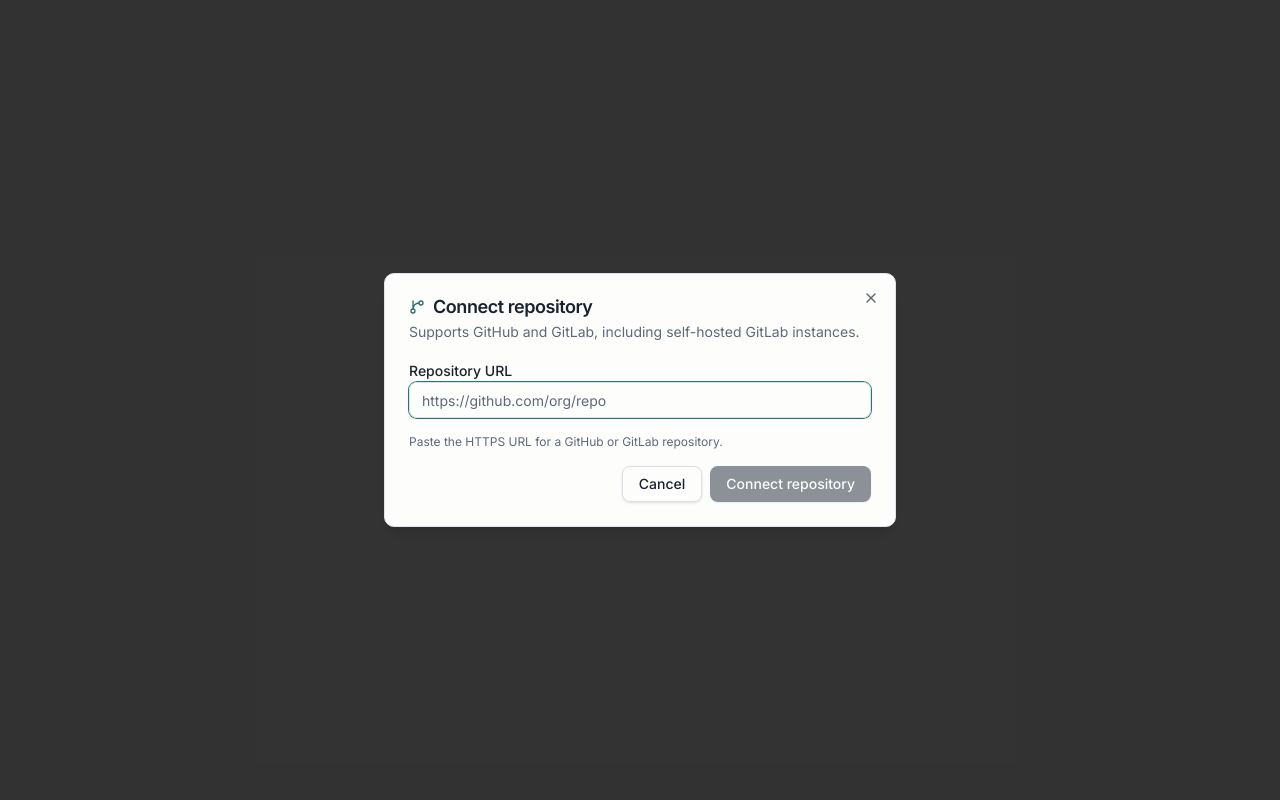
ConnectRepositoryDialog › renders a truncation notice and attach failure alert
Type "https://github.com/acme/atlas-commerce" into the field labelled "Repository URL" at (640, 400), box [409, 382, 871, 418]
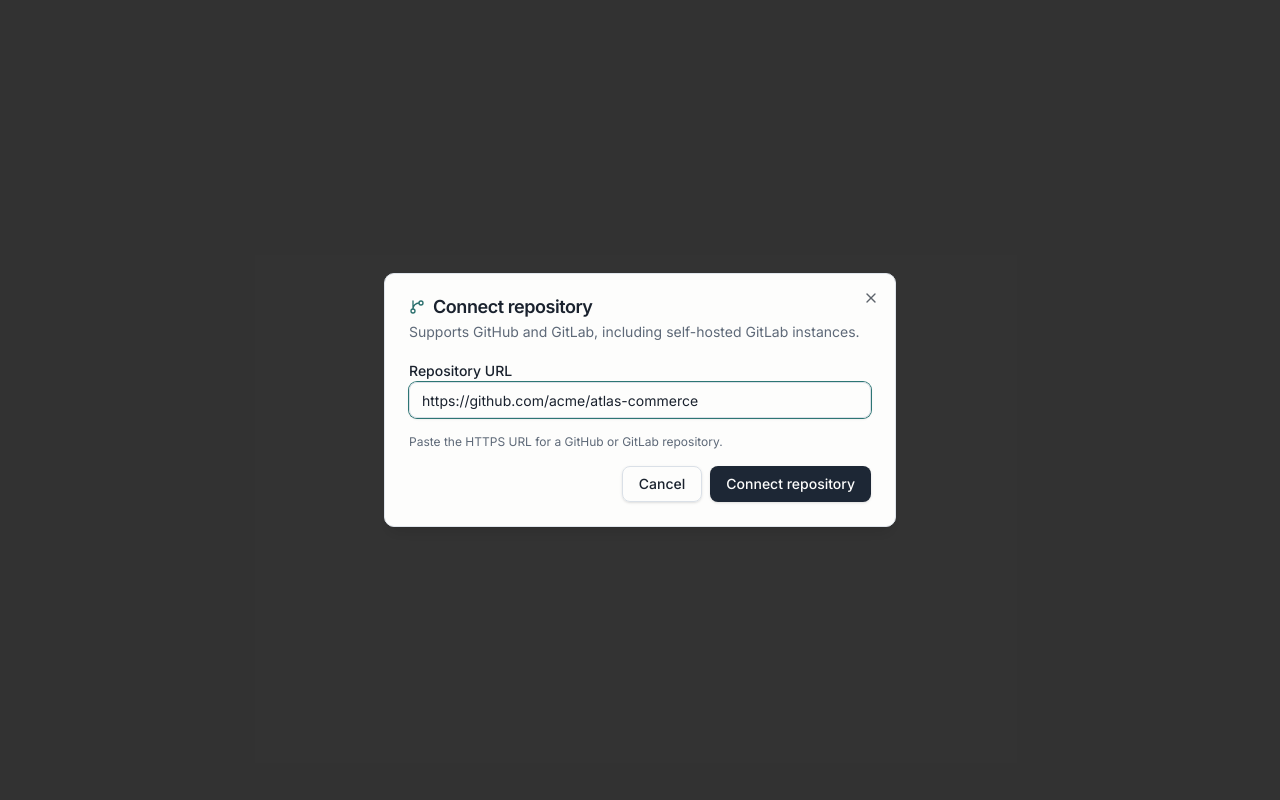
Click the button "Connect repository" at (791, 484), box [710, 466, 871, 502]
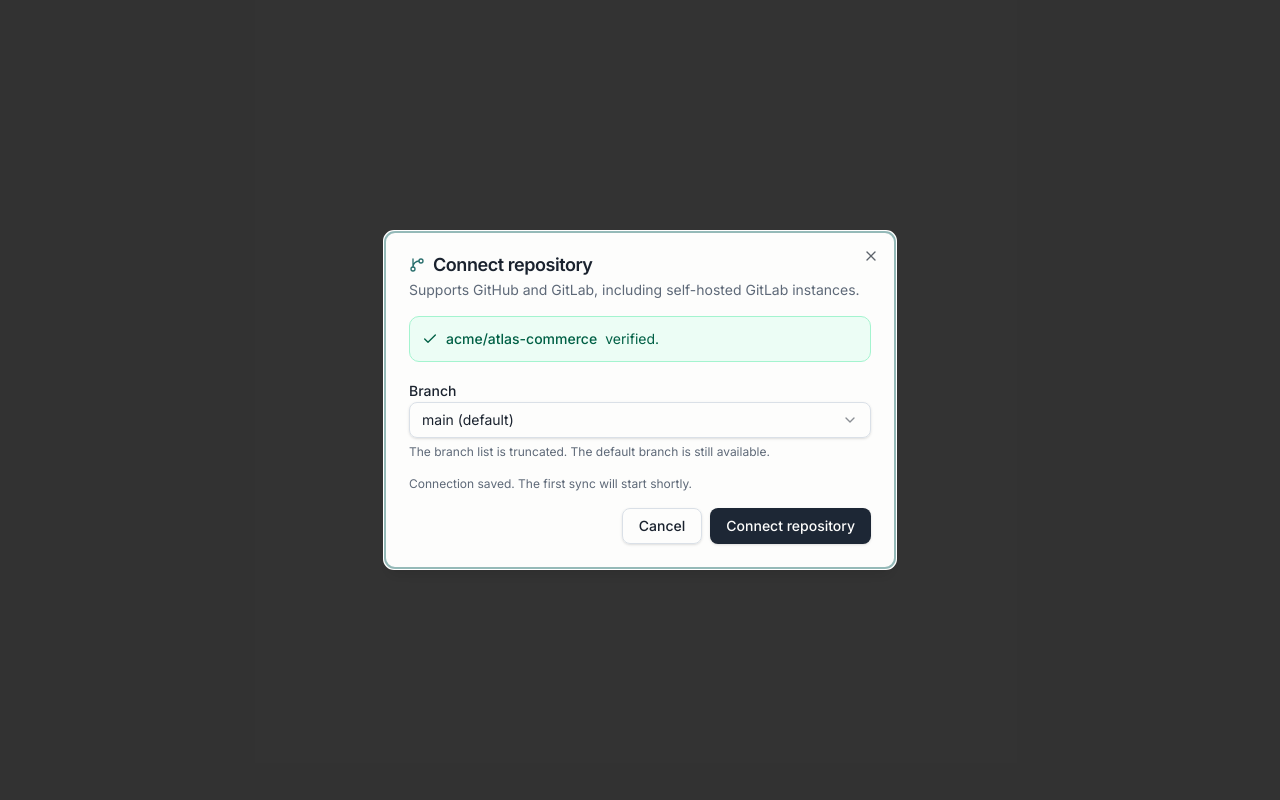
Expected: the text "branch list is truncated" is shown, [409, 444, 770, 459]
Click the button "Connect repository" at (791, 526), box [710, 508, 871, 544]
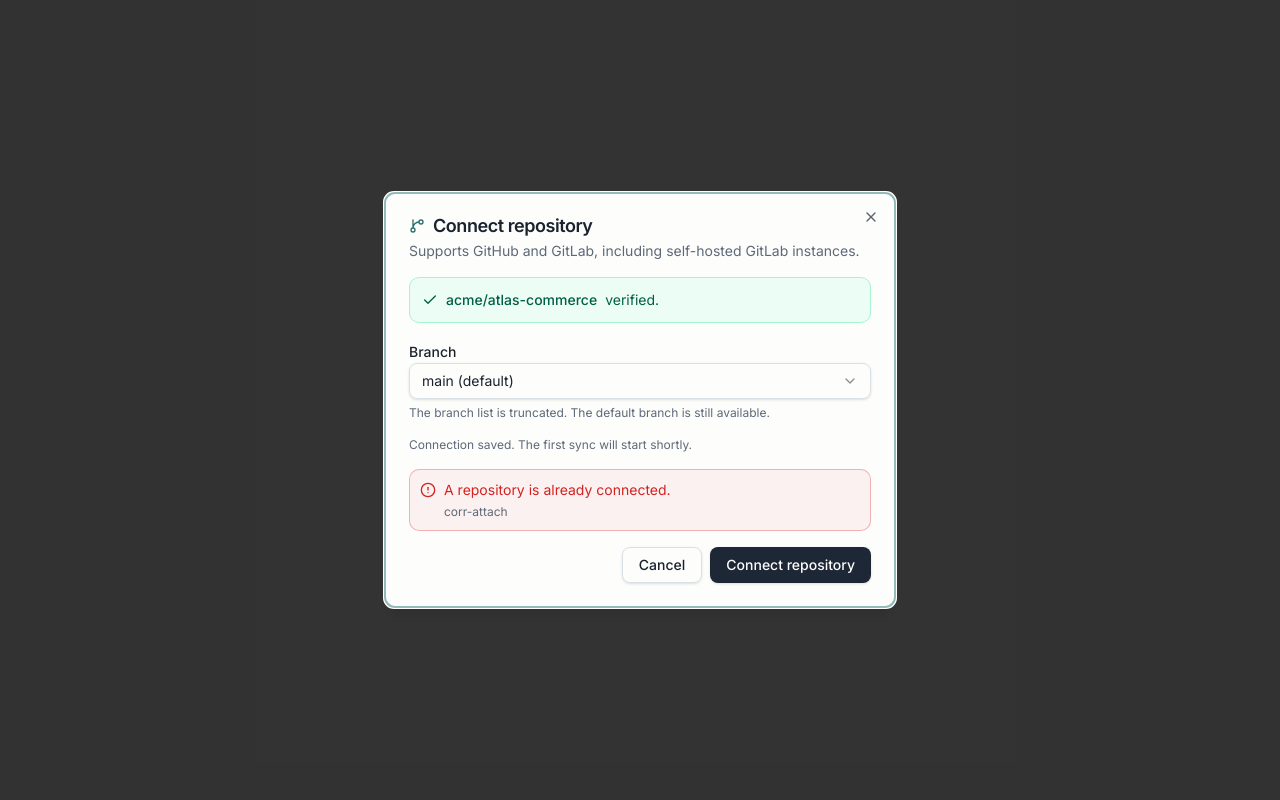
Expected: the message "A repository is already connected. corr-attach" is shown, [409, 469, 871, 531]
Expected: the text "A repository is already connected." is shown, [444, 480, 671, 500]
Expected: the text "corr-attach" is shown, [444, 504, 508, 519]
